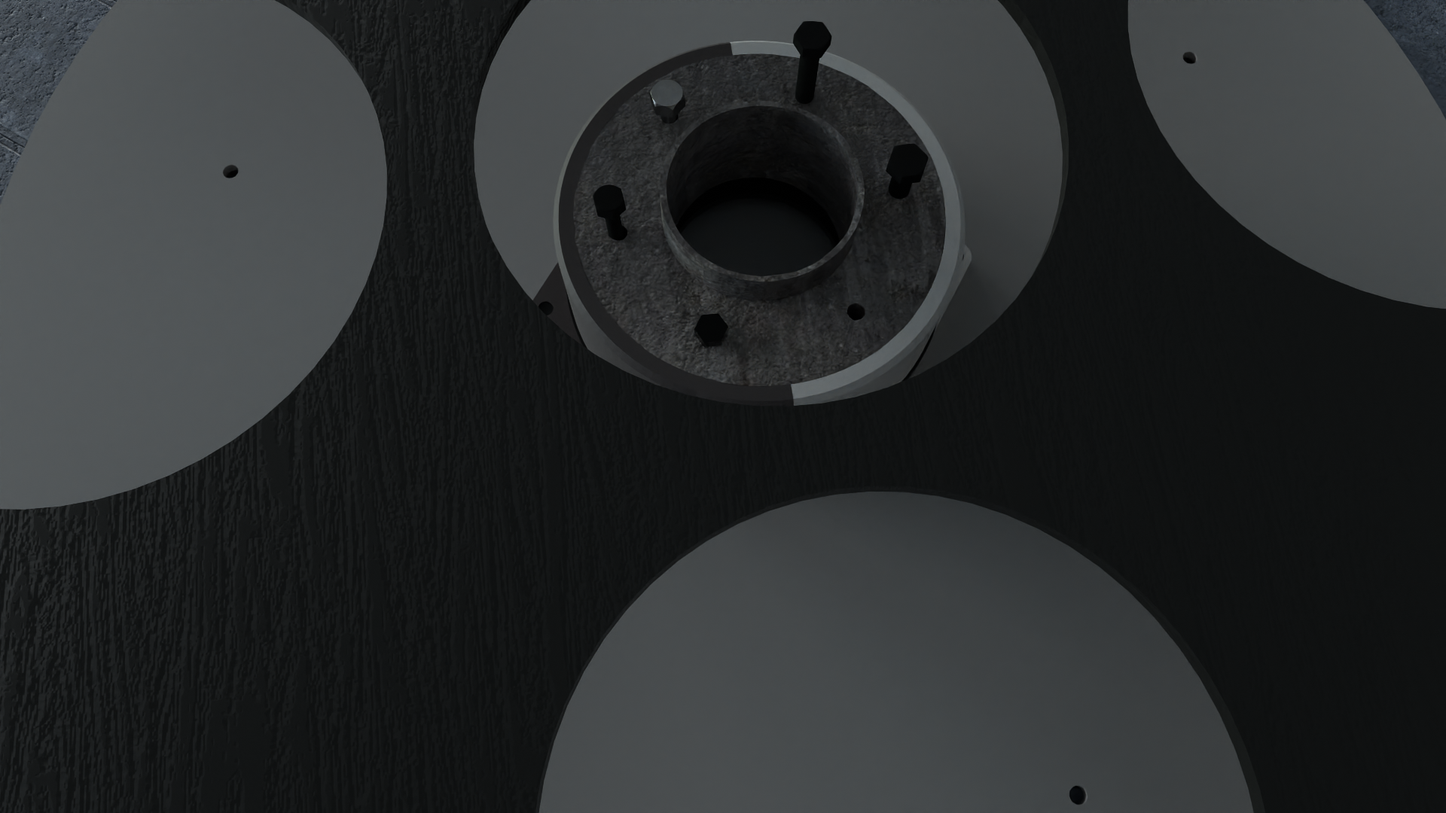bolt: (888, 144, 929, 178), (649, 80, 685, 110), (794, 21, 831, 50), (694, 314, 728, 343), (593, 184, 625, 214)
